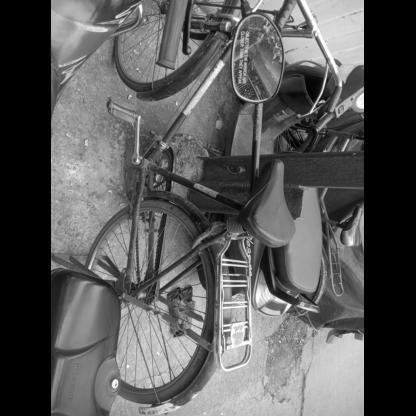Bicycle: (65, 0, 298, 415)
